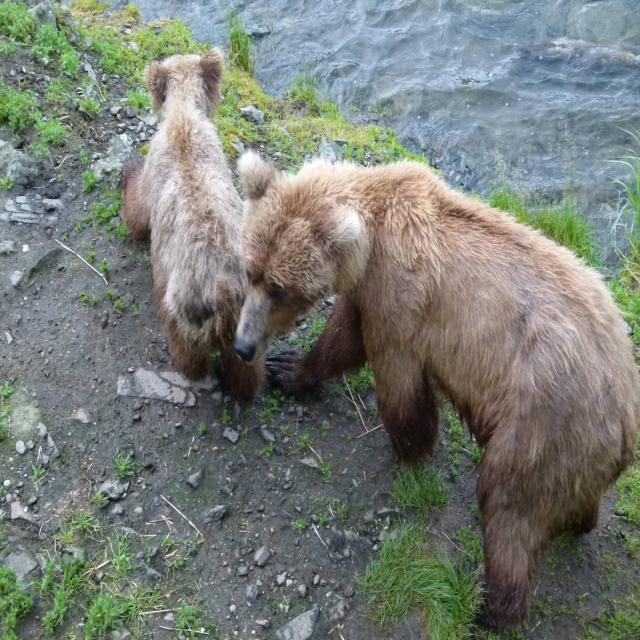bear face: (234, 156, 640, 634), (121, 47, 261, 399)
